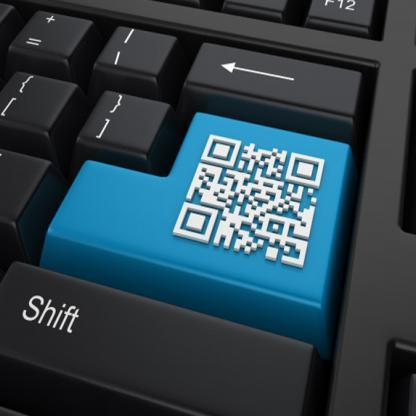qr_code: (171, 134, 326, 270)
